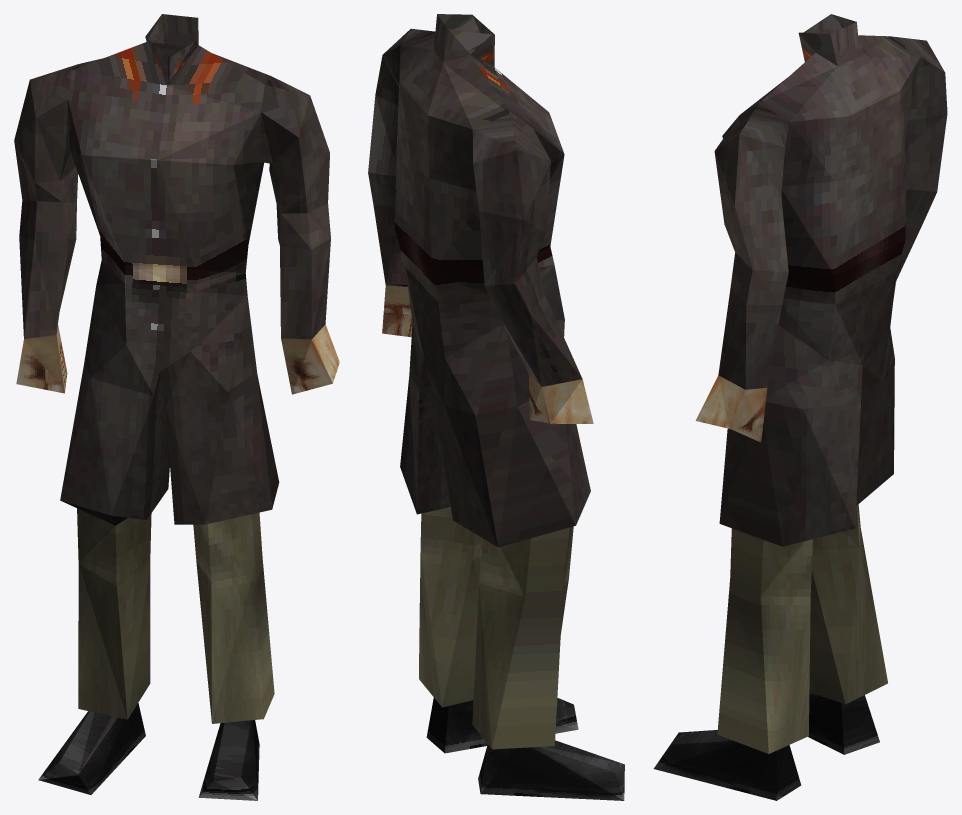
File: primary_07.glb
The picture shows the model from 3 angles, left to right: view 1: azimuth 30°, elevation 25°; view 2: azimuth 150°, elevation 25°; view 3: azimuth 270°, elevation 25°; orthographic projection. The views are drawn at different scales.
Visible parts, largest first — view 1: Object; view 2: Object; view 3: Object.
Boxes of the visible parts, x1,y1,x2,y2 form: Object: (14,14,339,800); Object: (368,14,624,800); Object: (653,14,947,800).
Bounding box in the file's own units: 0.6858 × 1.8 × 0.6371.
77 materials, 77 textured.
